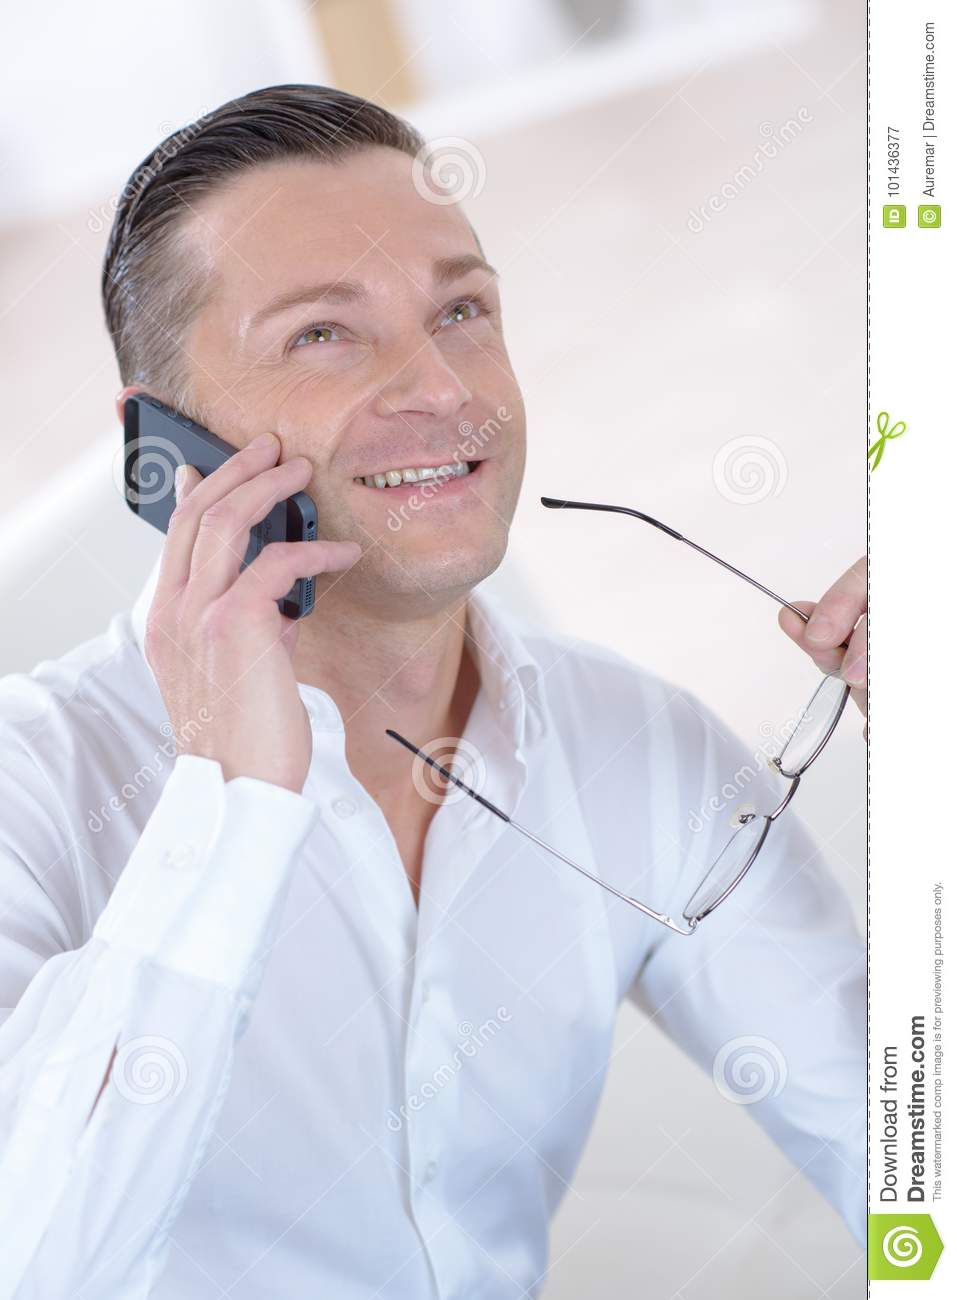phone: (122, 392, 323, 631)
talk: (120, 239, 523, 799)
